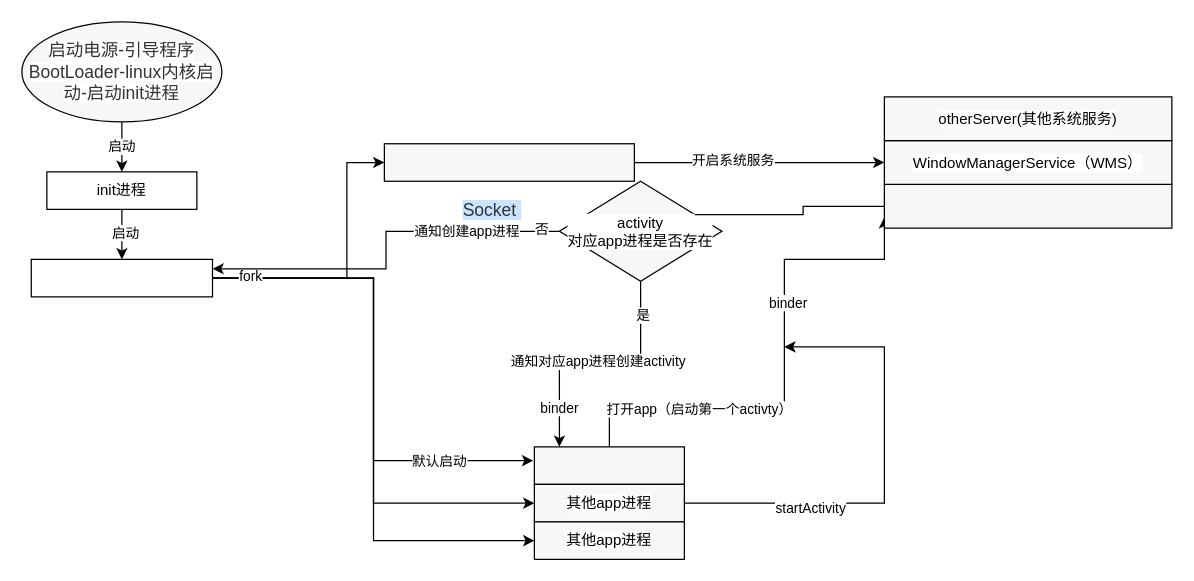
Image size: 1194x581. Some labels were removed from this diagram. Here are the shapes that lost their labels. From the top down, the centre of each, then its label:
[508,161]: S y s t e m S e r v e r 进 程
[1027,205]: ActivityManagerService（AMS）
[121,277]: Zygote 进程（孵化器）
[608,465]: 桌面app进程
